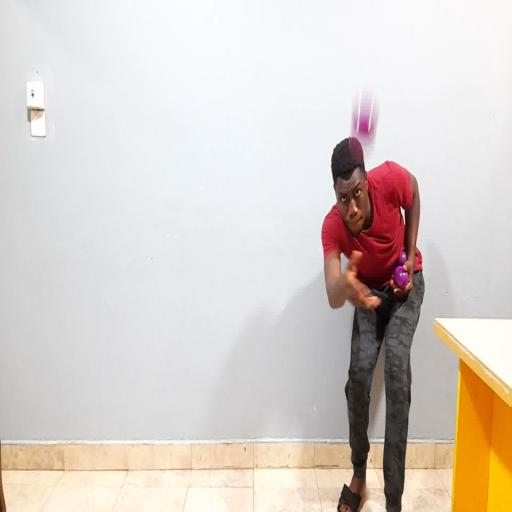plastic-ball: (348, 86, 382, 170)
